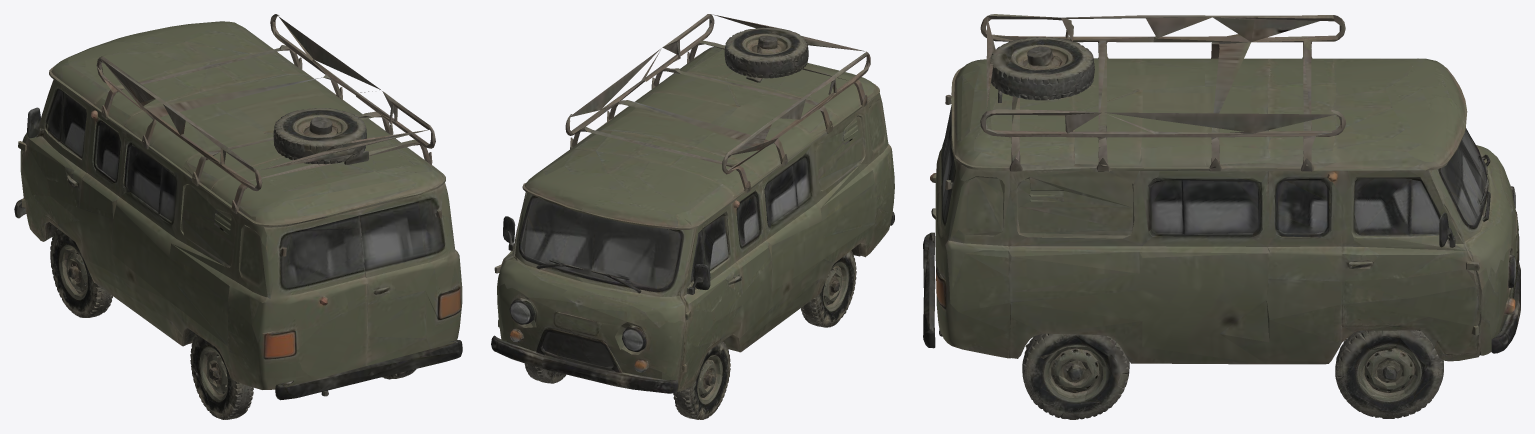
The model's file is UAZ_Bukhanka_22k.glb.
The picture shows the model from 3 angles, left to right: view 1: azimuth 30°, elevation 25°; view 2: azimuth 150°, elevation 25°; view 3: azimuth 270°, elevation 25°; orthographic projection. The views are drawn at different scales.
Visible parts, largest first — view 1: output_unwrapped; view 2: output_unwrapped; view 3: output_unwrapped.
Boxes of the visible parts, <box> form: output_unwrapped: <box>14,14,462,419</box>; output_unwrapped: <box>491,14,894,419</box>; output_unwrapped: <box>923,14,1520,419</box>.
Size of the model in its own units: 2.25 by 2.67 by 4.5.
Materials: 1 (1 with a texture image).
